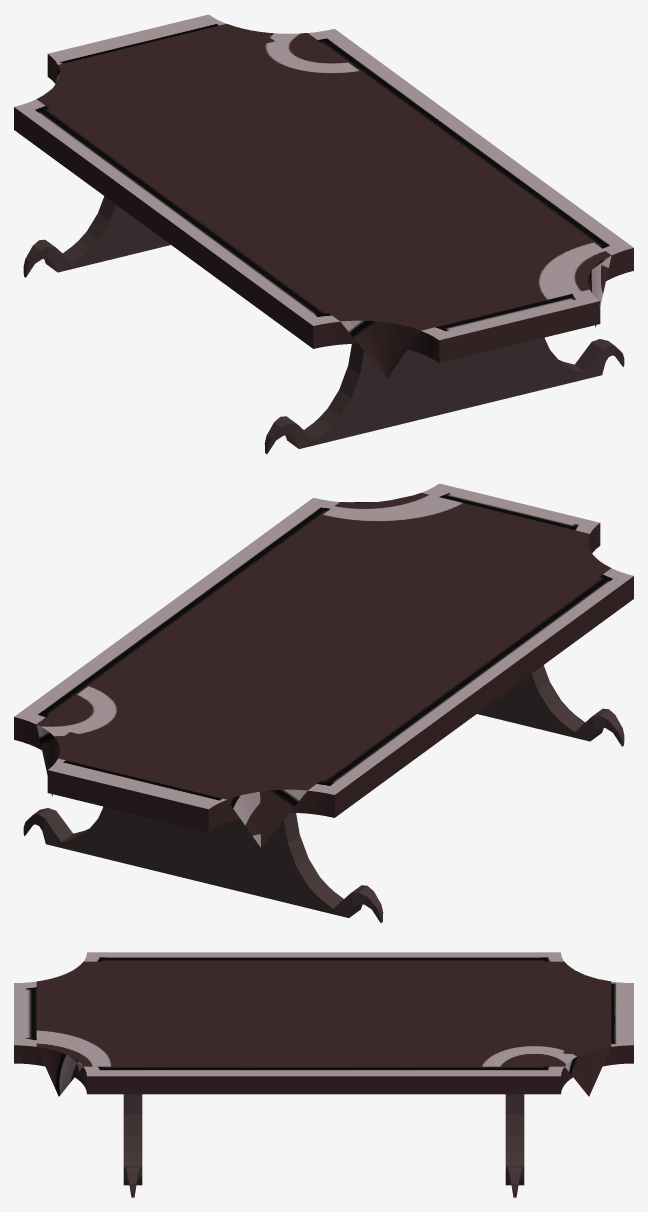
File: OFFICETABLErl.glb
3 views of the same model, one above another, from view 1: azimuth 30°, elevation 25°; view 2: azimuth 150°, elevation 25°; view 3: azimuth 270°, elevation 25° (orthographic). The views are drawn at different scales.
Visible parts, largest first — view 1: Cube.003, Cube, Cube.002, Cube.001; view 2: Cube.003, Cube, Cube.001, Cube.002; view 3: Cube.003, Cube, Cube.002, Cube.001.
Part boxes in pixels (x1,y1,x2,y2): Cube.003: (36, 24, 611, 378); Cube: (14, 14, 633, 363); Cube.002: (264, 337, 624, 453); Cube.001: (23, 196, 170, 277); Cube.003: (36, 493, 611, 847); Cube: (14, 483, 633, 832); Cube.001: (23, 806, 383, 922); Cube.002: (477, 665, 624, 746); Cube.003: (36, 961, 611, 1096); Cube: (14, 952, 633, 1094); Cube.002: (123, 1094, 142, 1197); Cube.001: (505, 1094, 524, 1197).
Bounding box in the file's own units: 2.55 × 0.9882 × 4.84.
Materials: 4 (4 with a texture image).
